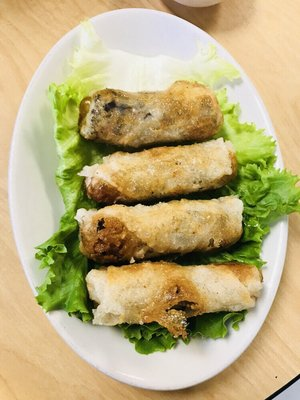curry: (2, 0, 299, 303)
